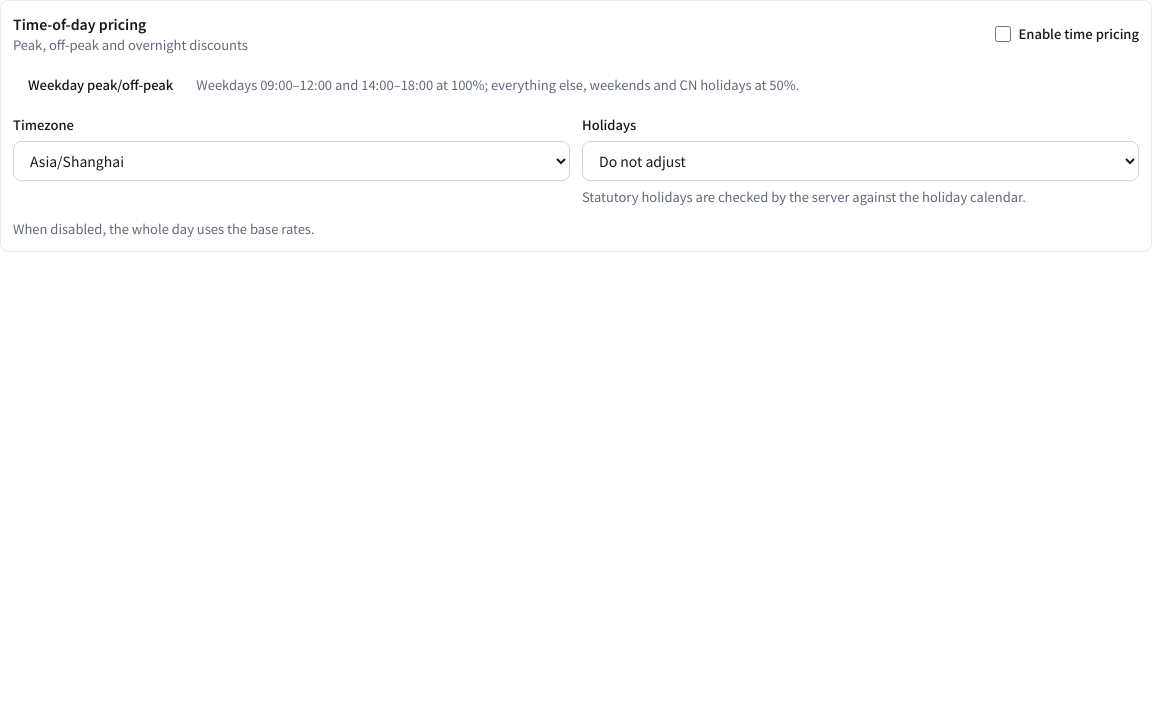
Test: TimeWindowEditor › explains overnight windows from the start day
Click the checkbox labelled "Enable time pricing". click: (1002, 34)
box: [994,26,1010,42]
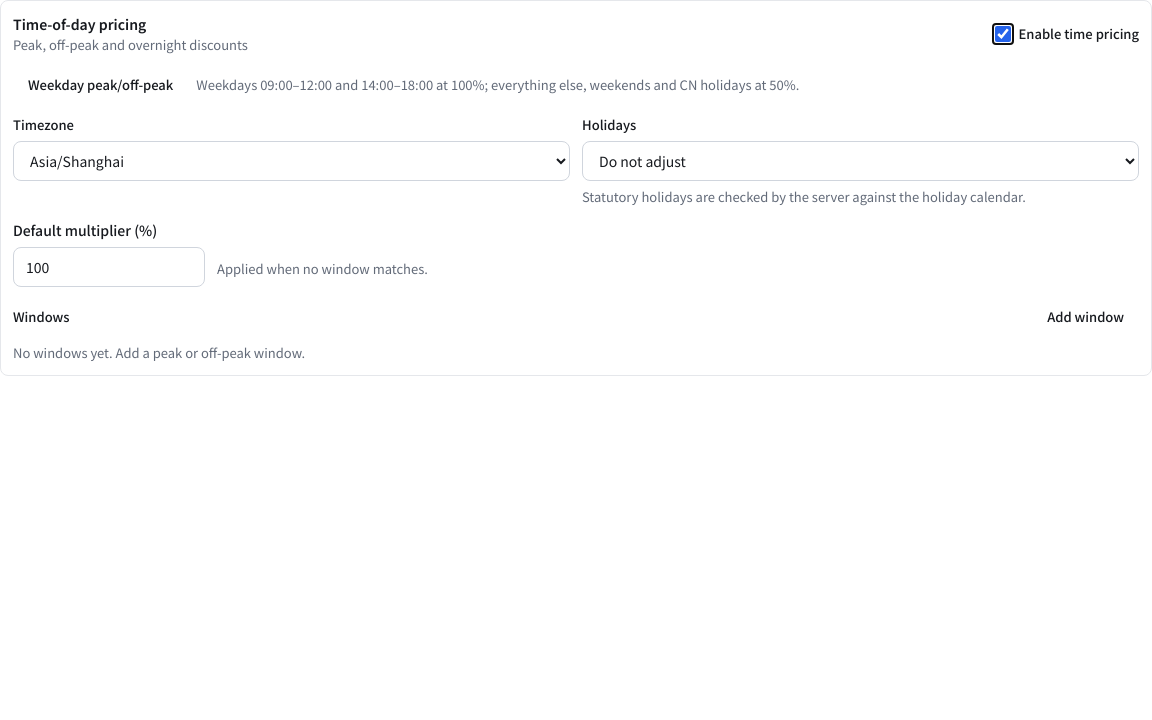
Click the button "Add window". click: (1086, 317)
box: [1032,299,1139,335]
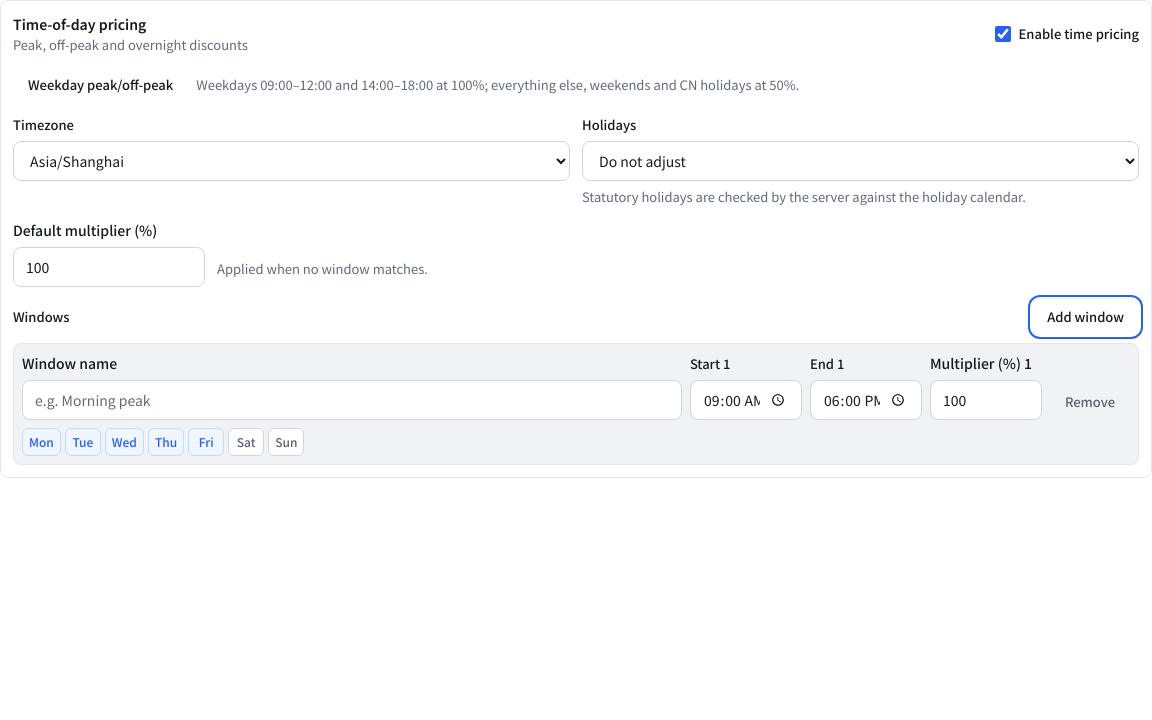
Replace the text in the time field labelled "Start 1" with "22:00". click: (746, 400)
box: [690,380,802,420]
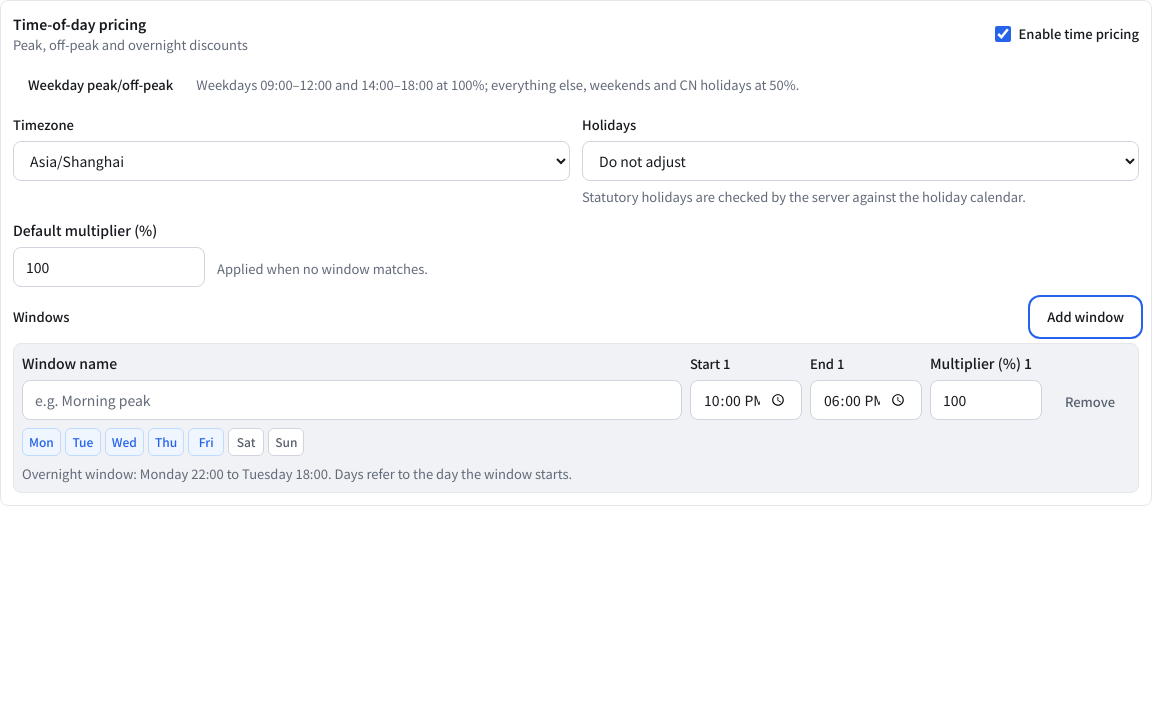
Replace the text in the time field labelled "End 1" with "08:00". click: (866, 400)
box: [810,380,922,420]
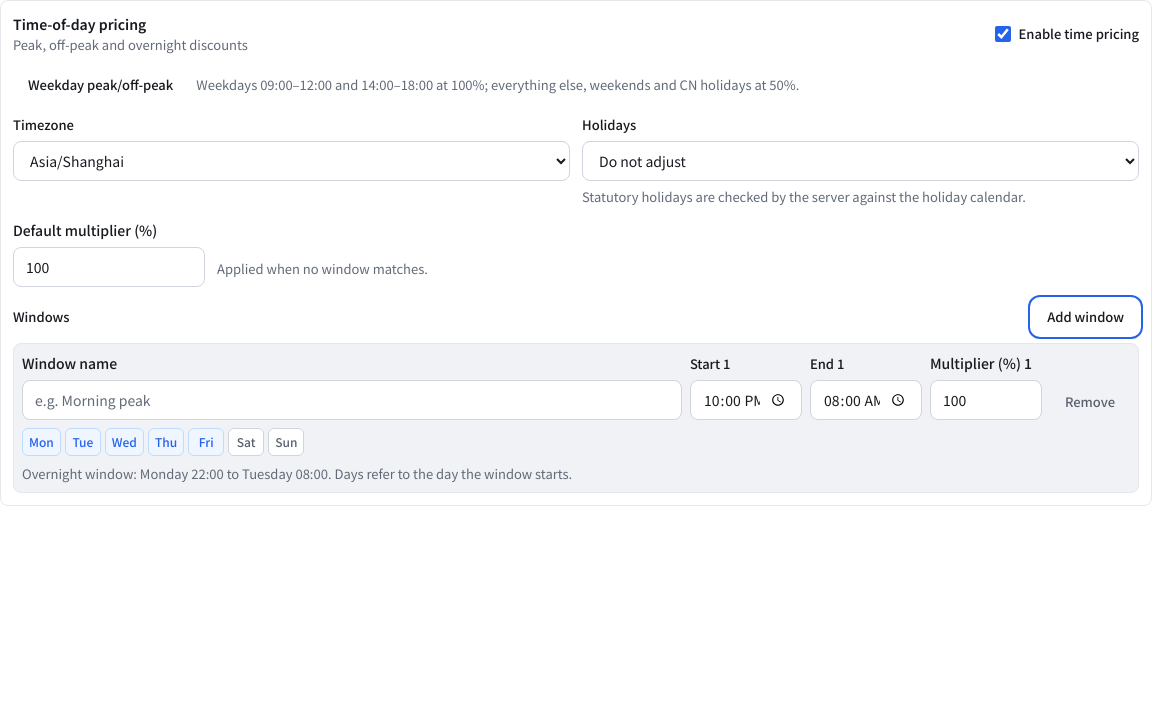
Now the text "Overnight window: Monday 22:00 to Tuesday 08:00" is shown, box [22,464,572,483]
